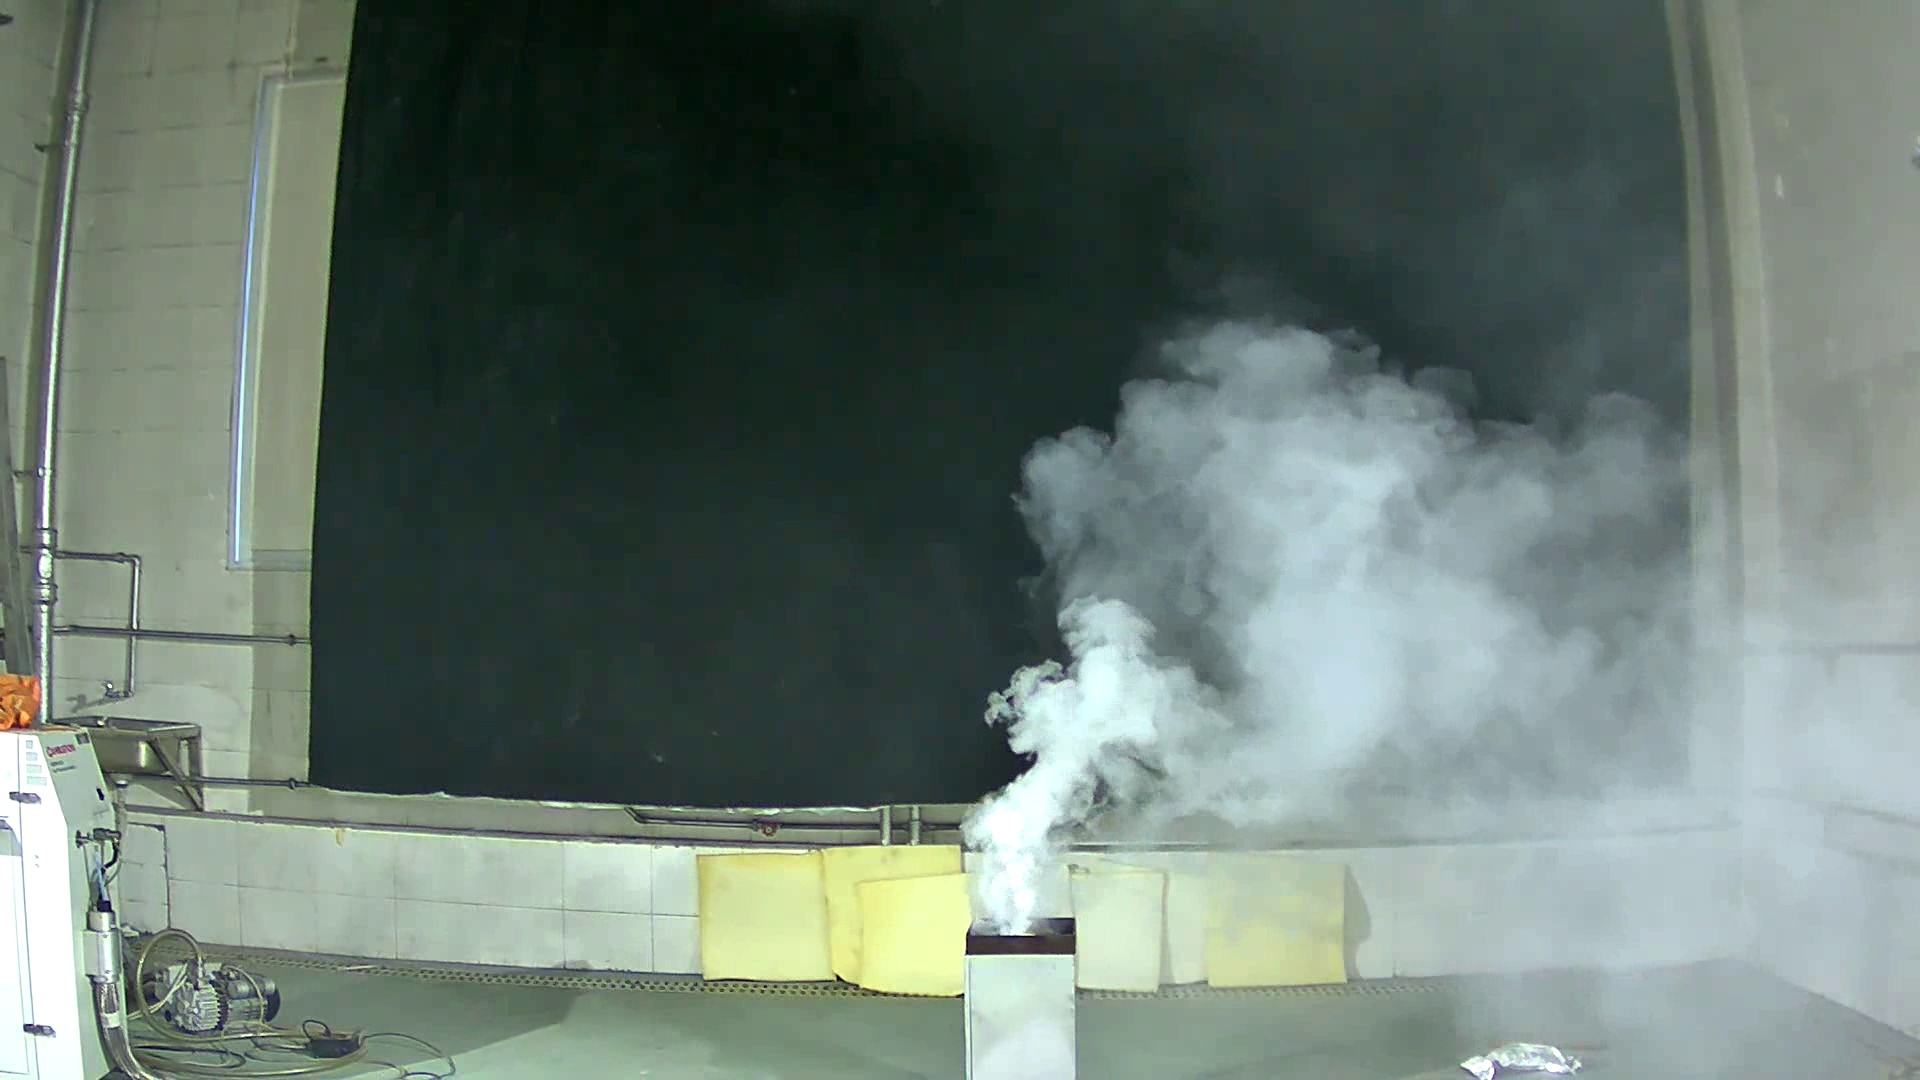smoke: (906, 305, 1578, 936)
